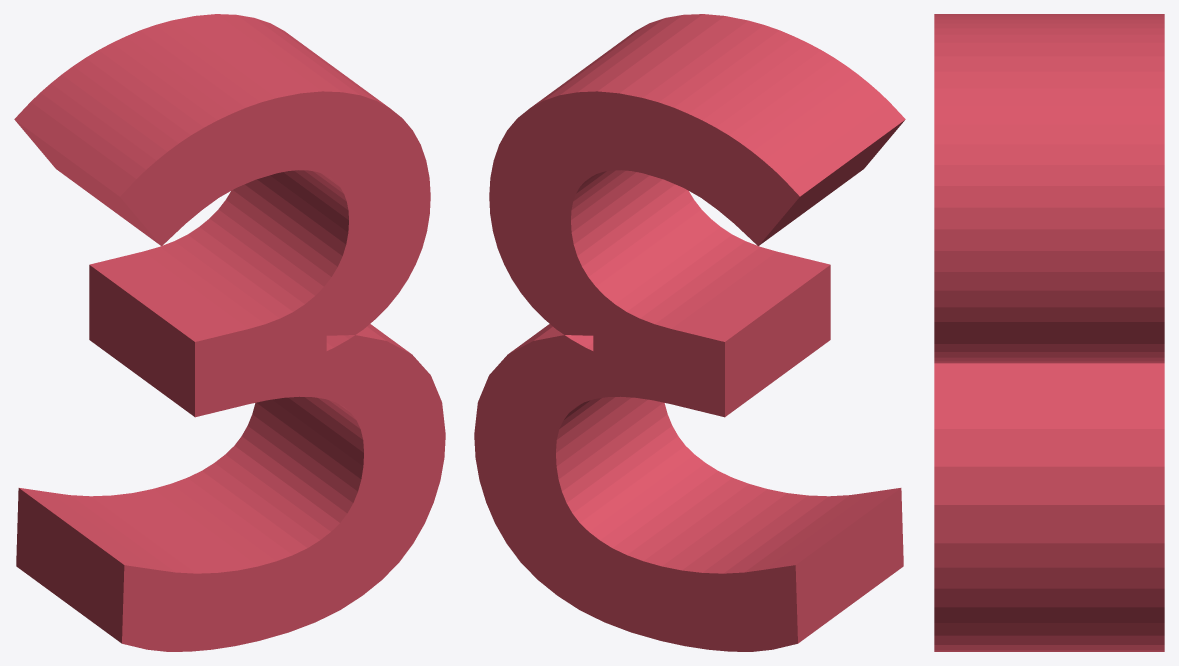
File: Number.fbx
The picture shows the model from 3 angles, left to right: view 1: azimuth 30°, elevation 25°; view 2: azimuth 150°, elevation 25°; view 3: azimuth 270°, elevation 25°; orthographic projection. The views are drawn at different scales.
Visible parts, largest first — view 1: tinker1:group_0_15277357; view 2: tinker1:group_0_15277357; view 3: tinker1:group_0_15277357.
Boxes of the visible parts, bbox=[...] form: tinker1:group_0_15277357: bbox=[14, 14, 445, 651]; tinker1:group_0_15277357: bbox=[474, 14, 905, 651]; tinker1:group_0_15277357: bbox=[934, 14, 1164, 651].
Bounding box in the file's own units: 13.45 × 21.25 × 7.56.
